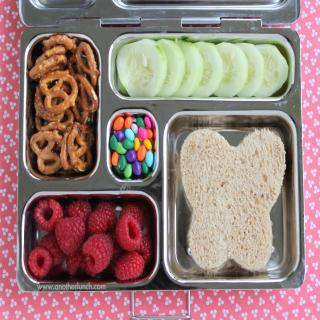Strawberry: (82, 232, 112, 276), (54, 217, 86, 258), (32, 199, 66, 233), (115, 216, 145, 250), (118, 250, 144, 280), (29, 247, 53, 278), (40, 237, 63, 266), (122, 205, 146, 230), (135, 234, 151, 266), (86, 210, 108, 232), (67, 205, 92, 221), (103, 201, 118, 227), (67, 258, 84, 276)
